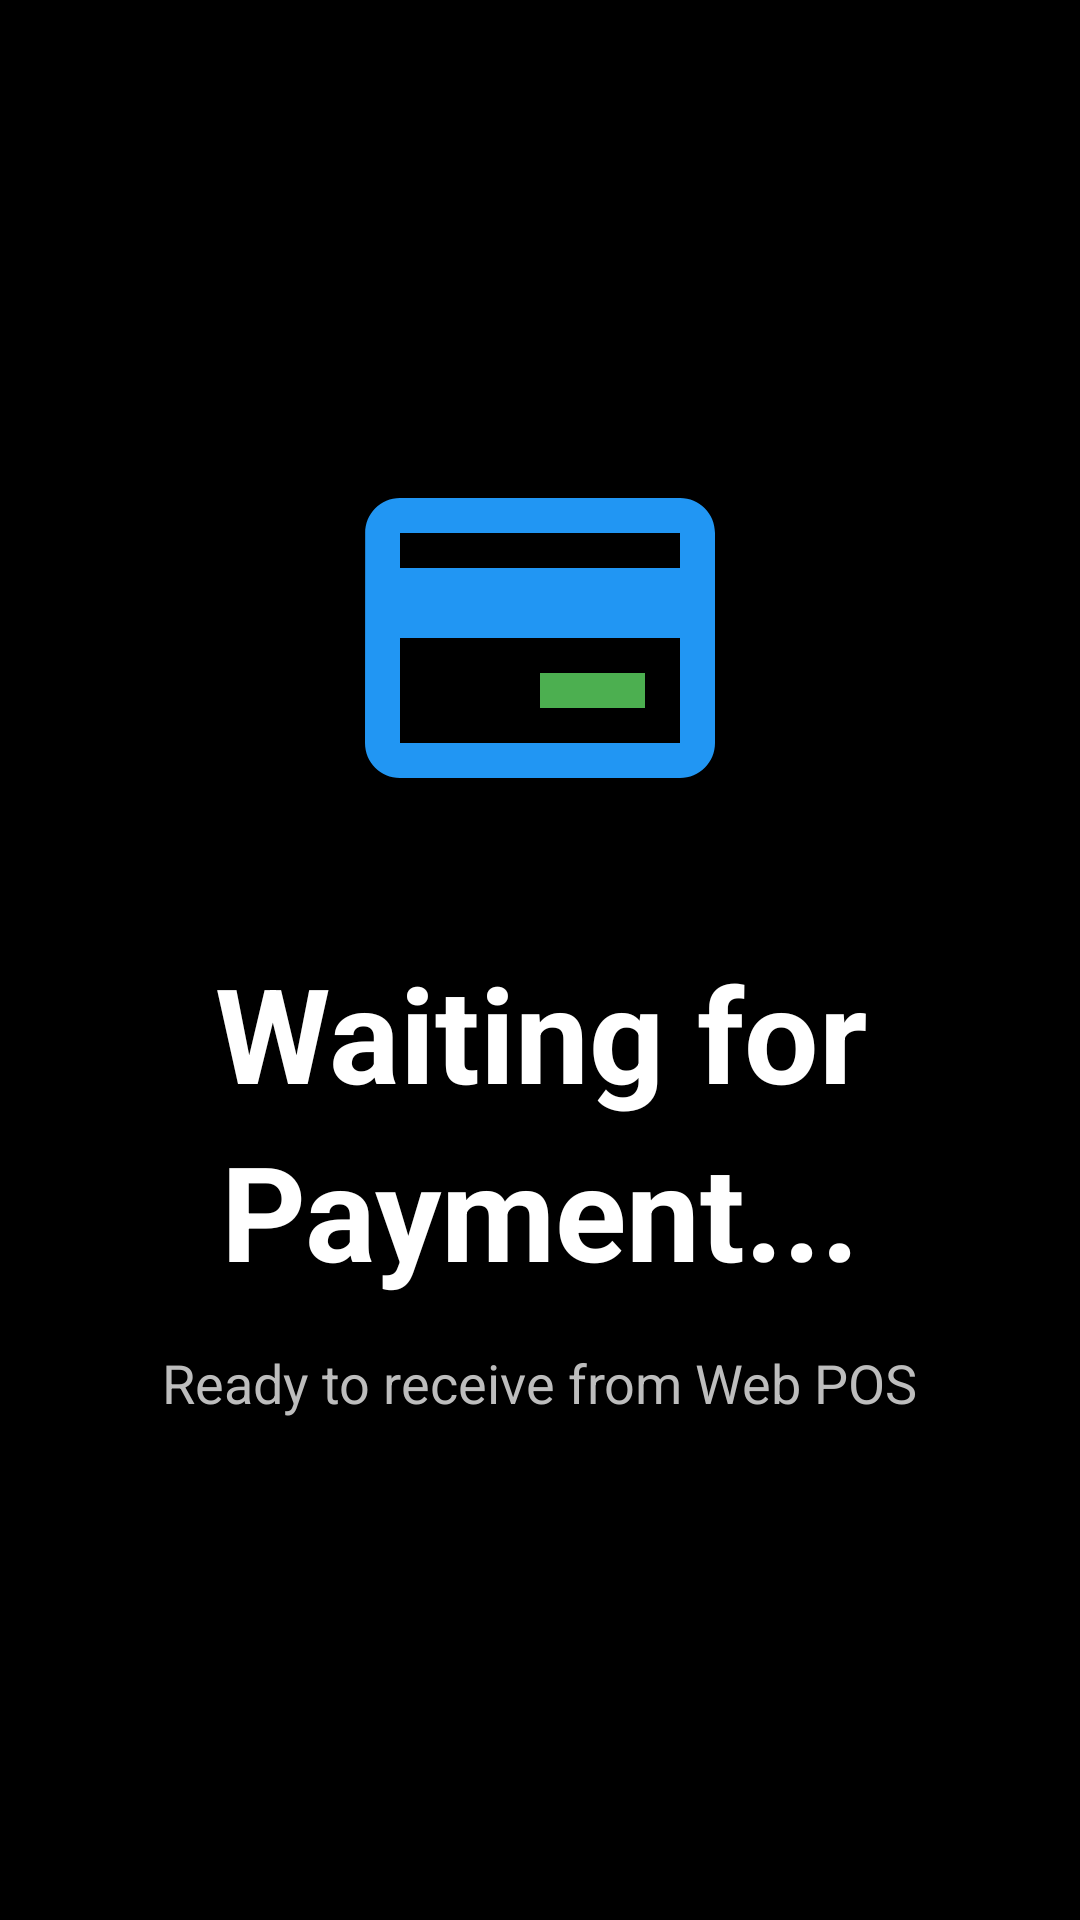

Icon click points for this 1080*1920 phone screenshot, format [x,y]:
payment pos: [540,638]
